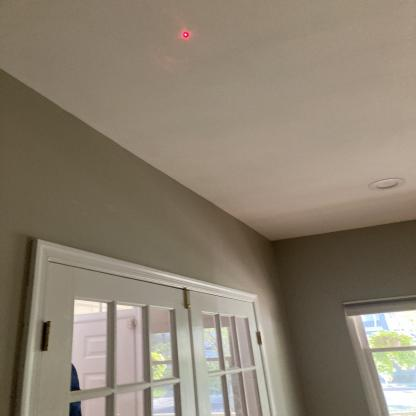target: (175, 28, 197, 43)
